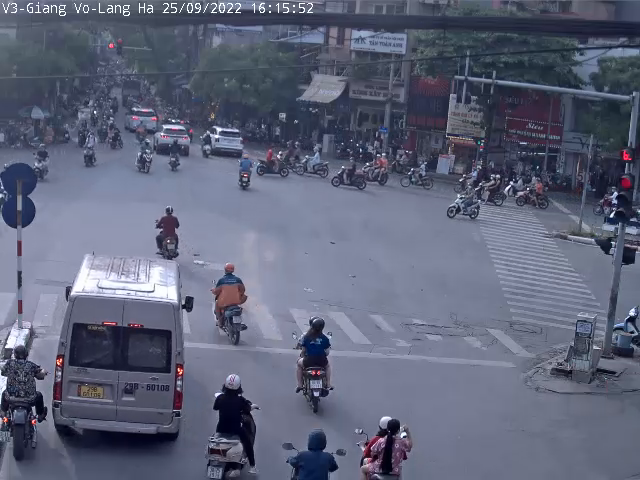người trên xe: (203, 369, 267, 480), (0, 345, 51, 467), (346, 405, 421, 480), (293, 314, 345, 415), (199, 258, 253, 350), (277, 415, 350, 480), (146, 203, 187, 268), (448, 183, 484, 226), (164, 135, 183, 178), (235, 155, 253, 193)
